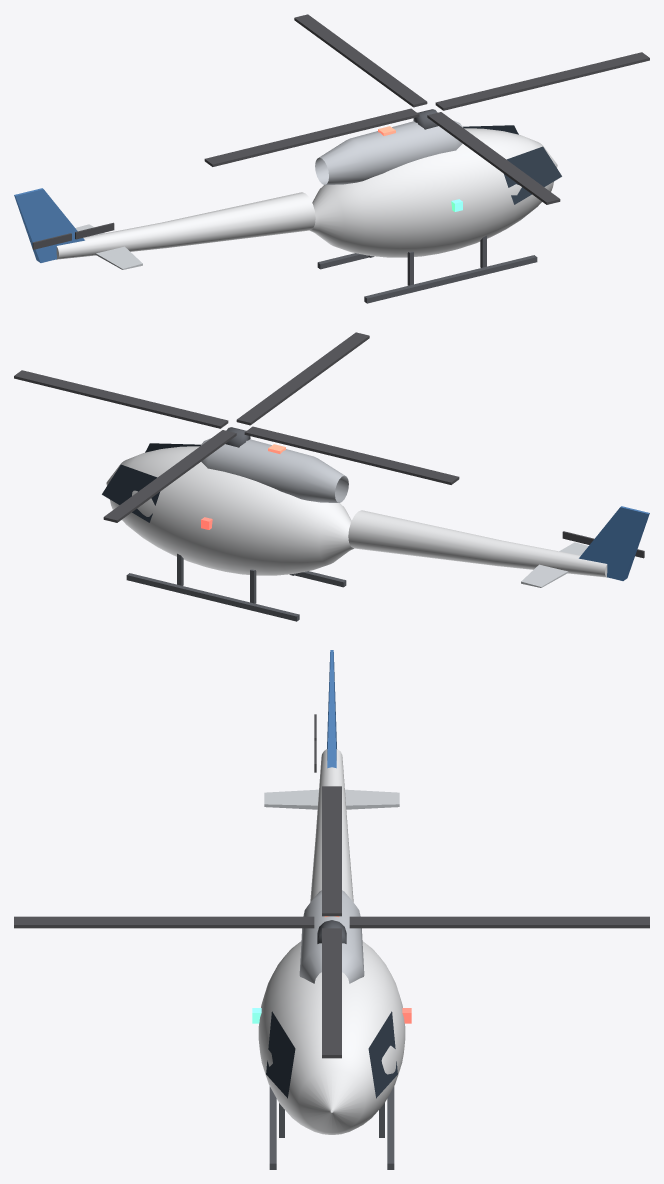
The model's file is heli.glb.
3 renders of one model, top to bottom at view 1: azimuth 30°, elevation 25°; view 2: azimuth 150°, elevation 25°; view 3: azimuth 270°, elevation 25°, orthographic. The views are drawn at different scales.
Visible parts, largest first — view 1: main, rotor, tailrotor; view 2: main, rotor; view 3: main, rotor.
Part boxes in pixels (box(x1,y1,x2,y2)): main: box(14, 120, 561, 303); rotor: box(204, 14, 649, 204); tailrotor: box(32, 222, 114, 249); main: box(102, 438, 649, 621); rotor: box(14, 332, 459, 522); main: box(252, 650, 411, 1169); rotor: box(14, 786, 649, 1058).
Size of the model in its own units: 15.59 by 4.01 by 10.8.
